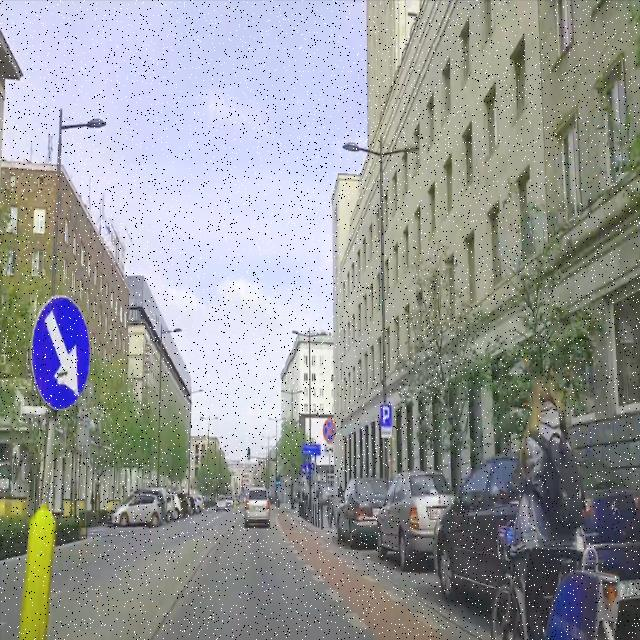Zakaz zatrzymywania sie: (322, 417, 336, 444)
